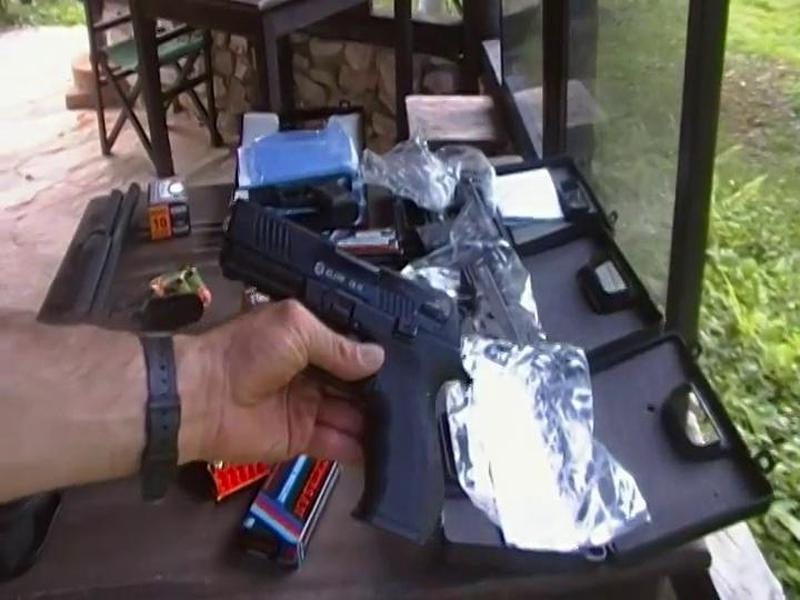Pistola: (207, 195, 483, 554)
